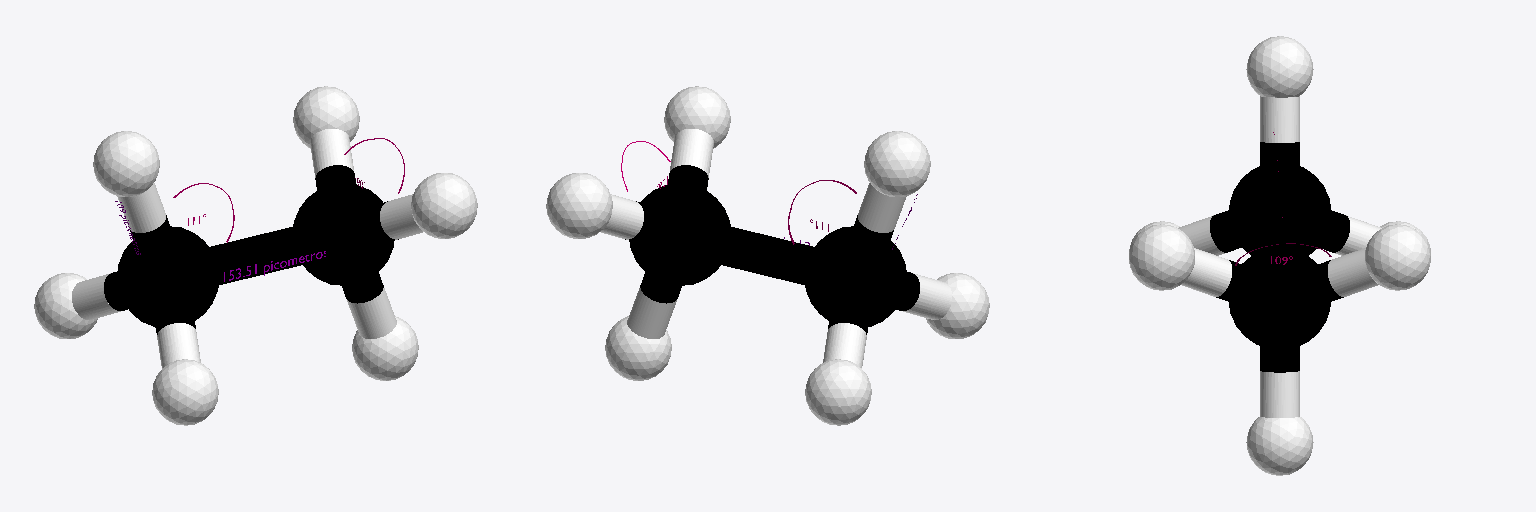
The model's file is etano.obj.
The picture shows the model from 3 angles: view 1: azimuth 30°, elevation 25°; view 2: azimuth 150°, elevation 25°; view 3: azimuth 270°, elevation 25°; orthographic projection.
Parts seen in each view (by area): view 1: Shape_IndexedFaceSet.002_Shape_IndexedFaceSet.419, Shape_IndexedFaceSet.015_Shape_IndexedFaceSet.420; view 2: Shape_IndexedFaceSet.002_Shape_IndexedFaceSet.419, Shape_IndexedFaceSet.015_Shape_IndexedFaceSet.420; view 3: Shape_IndexedFaceSet.002_Shape_IndexedFaceSet.419, Shape_IndexedFaceSet.015_Shape_IndexedFaceSet.420.
Part boxes in pixels (bbox=[...]): Shape_IndexedFaceSet.002_Shape_IndexedFaceSet.419: bbox=[34, 86, 477, 425]; Shape_IndexedFaceSet.015_Shape_IndexedFaceSet.420: bbox=[104, 165, 398, 334]; Shape_IndexedFaceSet.002_Shape_IndexedFaceSet.419: bbox=[546, 86, 989, 425]; Shape_IndexedFaceSet.015_Shape_IndexedFaceSet.420: bbox=[625, 165, 919, 334]; Shape_IndexedFaceSet.002_Shape_IndexedFaceSet.419: bbox=[1129, 36, 1430, 475]; Shape_IndexedFaceSet.015_Shape_IndexedFaceSet.420: bbox=[1210, 142, 1349, 372].
Size of the model in its own units: 20.78 by 19.27 by 17.2.